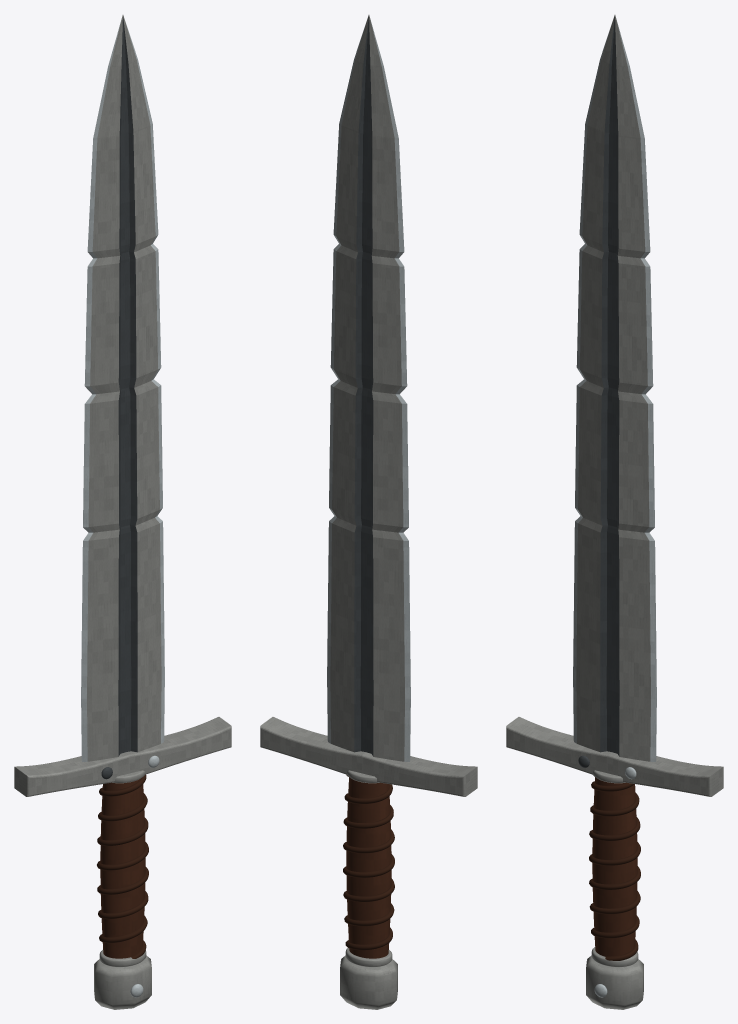
Rendered from worn_sword.glb.
The picture shows the model from 3 angles, left to right: view 1: azimuth 30°, elevation 25°; view 2: azimuth 150°, elevation 25°; view 3: azimuth 330°, elevation 25°; orthographic projection.
Visible parts, largest first — view 1: worn-grey-iron, unpolished-fuller, silver-honed-edge, brown-leather-grip, leather-overlap-lip; view 2: worn-grey-iron, unpolished-fuller, silver-honed-edge, brown-leather-grip, leather-overlap-lip; view 3: worn-grey-iron, unpolished-fuller, silver-honed-edge, brown-leather-grip, leather-overlap-lip.
Boxes of the visible parts, x1,y1,x2,y2 form: worn-grey-iron: (14, 15, 231, 1009); unpolished-fuller: (101, 16, 137, 779); silver-honed-edge: (81, 18, 164, 997); brown-leather-grip: (100, 778, 145, 958); leather-overlap-lip: (97, 774, 148, 958); worn-grey-iron: (260, 15, 477, 1009); unpolished-fuller: (354, 16, 373, 756); silver-honed-edge: (327, 18, 410, 761); brown-leather-grip: (346, 777, 391, 958); leather-overlap-lip: (343, 775, 394, 950); worn-grey-iron: (506, 15, 723, 1009); unpolished-fuller: (578, 16, 619, 767); silver-honed-edge: (573, 18, 656, 997); brown-leather-grip: (592, 777, 637, 956); leather-overlap-lip: (589, 781, 640, 960).
Size of the model in its own units: 0.22 by 1.01 by 0.0533.
Materials: 5 (5 with a texture image).
